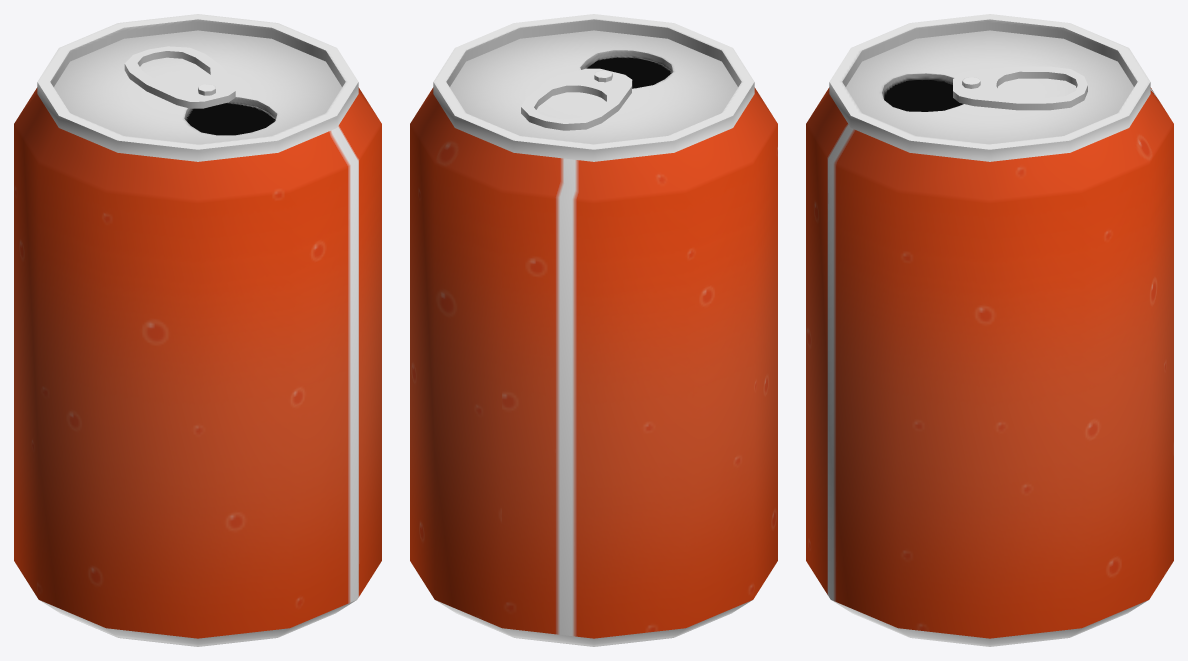
Rendered from ENV1810005.fbx.
The picture shows the model from 3 angles, left to right: view 1: azimuth 30°, elevation 25°; view 2: azimuth 150°, elevation 25°; view 3: azimuth 270°, elevation 25°; orthographic projection.
Parts seen in each view (by area): view 1: smENV1810005; view 2: smENV1810005; view 3: smENV1810005.
Part boxes in pixels (x1,y1,x2,y2): smENV1810005: (14,14,381,646); smENV1810005: (410,14,777,646); smENV1810005: (806,14,1173,646).
Size of the model in its own units: 8.14 by 12.17 by 8.14.
1 material, 1 textured.
